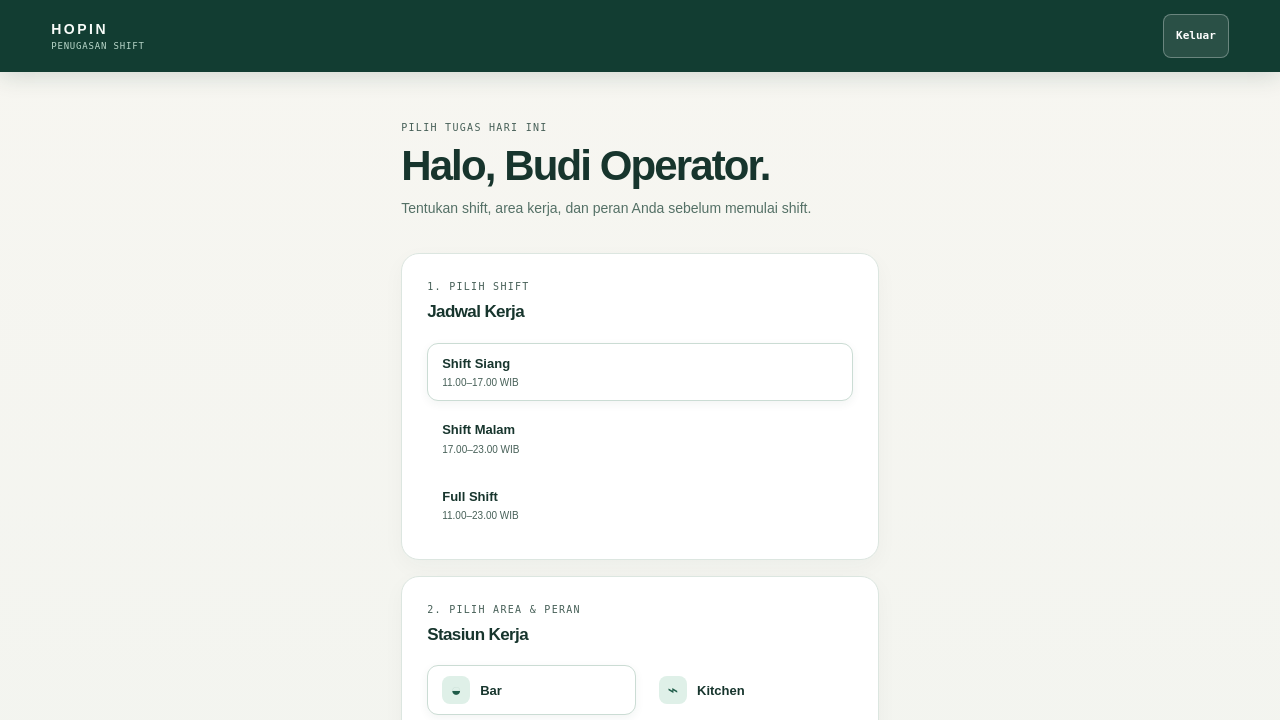
Test: Staff Flow & Onboarding UI Regression › handles server logout failure: warns user, retains session on client, and allows retry
The width and height of the screenshot is (1280, 720).
Expected: the heading "Halo, Budi Operator." is shown, [401, 143, 811, 189]
Attempt logout
Click the button "Keluar" at x=1196, y=36, box [1163, 14, 1229, 58]
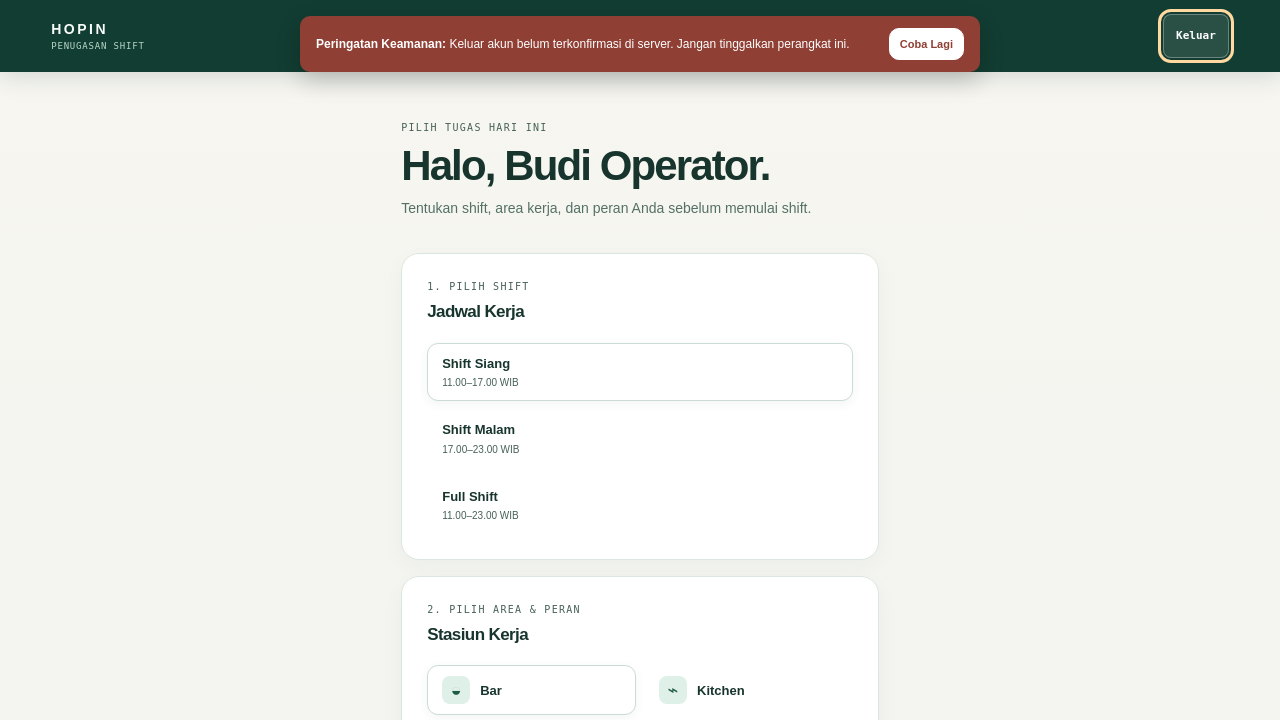
Expected: the text "Pilih pengguna..." is not shown
Expected: the message shows "Keluar akun belum terkonfirmasi di server", [449, 37, 850, 51]
Click the button "Coba Lagi" at x=926, y=44, box [889, 28, 964, 60]
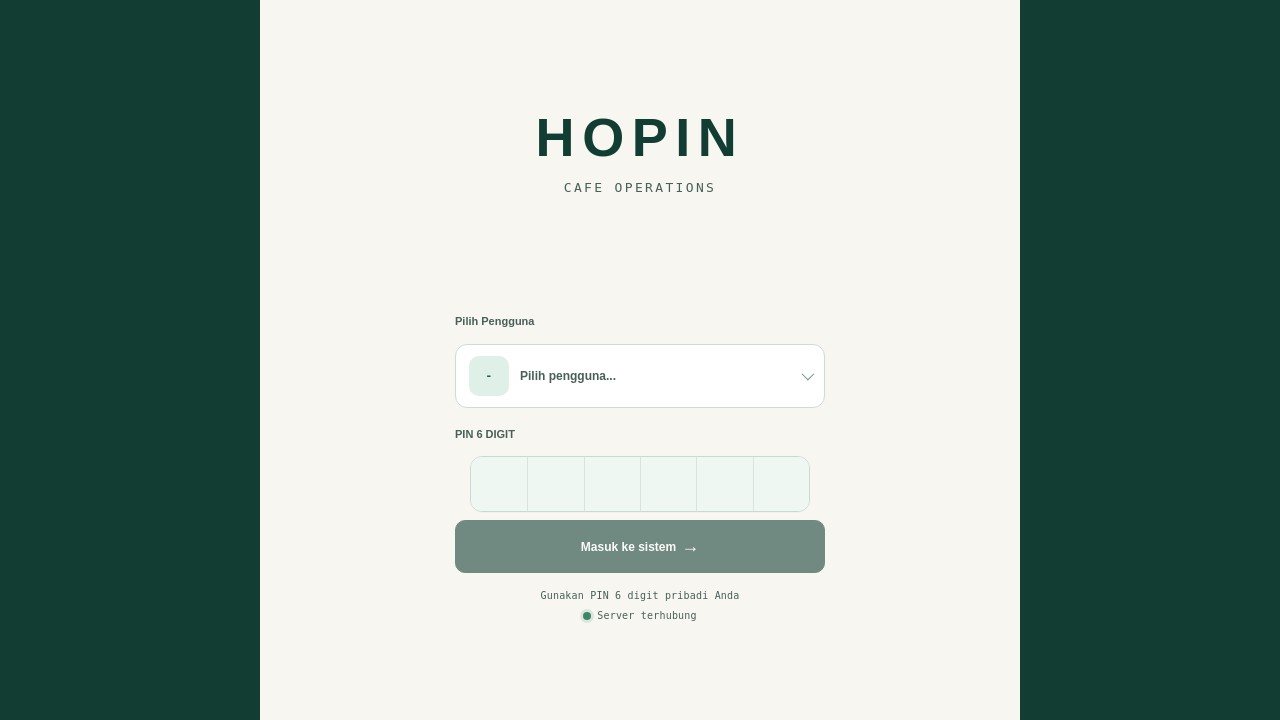
Expected: the text "Pilih pengguna..." is shown, [520, 369, 616, 383]
